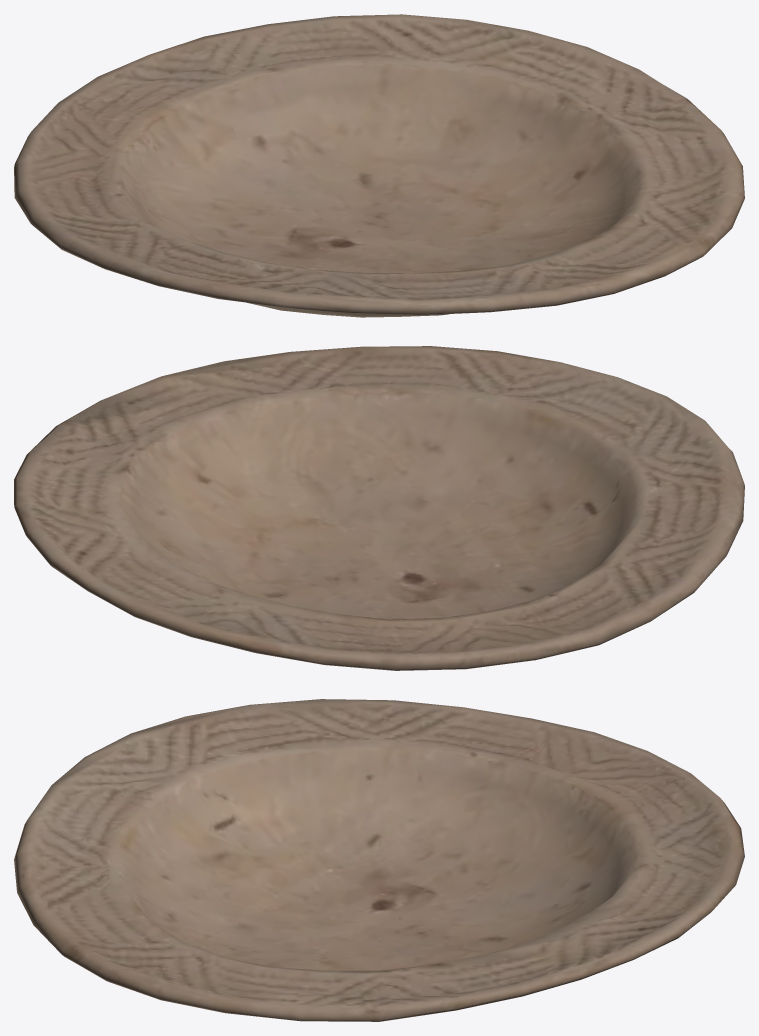
The model's file is carved_wooden_plate.glb.
3 views of the same model, one above another, from view 1: azimuth 30°, elevation 25°; view 2: azimuth 150°, elevation 25°; view 3: azimuth 270°, elevation 25° (orthographic). The views are drawn at different scales.
Visible parts, largest first — view 1: carved_wooden_plate; view 2: carved_wooden_plate; view 3: carved_wooden_plate.
Part boxes in pixels (left/top/right/bottom): carved_wooden_plate: left=14, top=14, right=744, bottom=317; carved_wooden_plate: left=14, top=346, right=744, bottom=670; carved_wooden_plate: left=14, top=699, right=744, bottom=1021.
Bounding box in the file's own units: 0.2718 × 0.0377 × 0.2688.
Materials: 1 (1 with a texture image).
